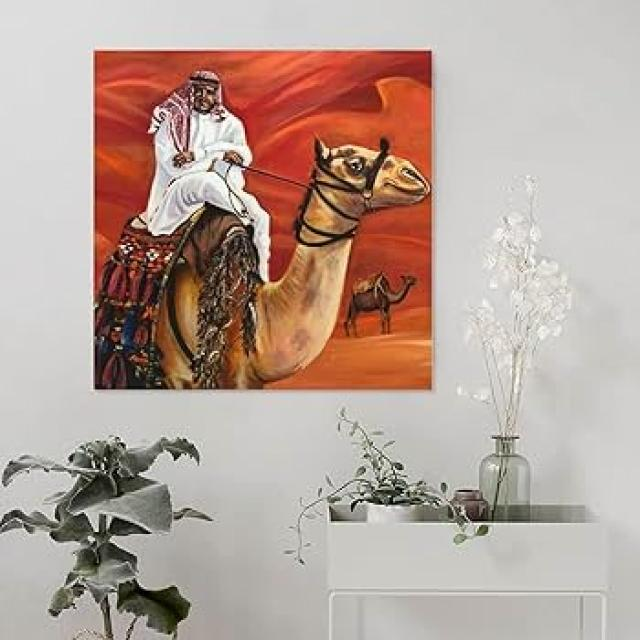painting: (93, 48, 431, 389)
